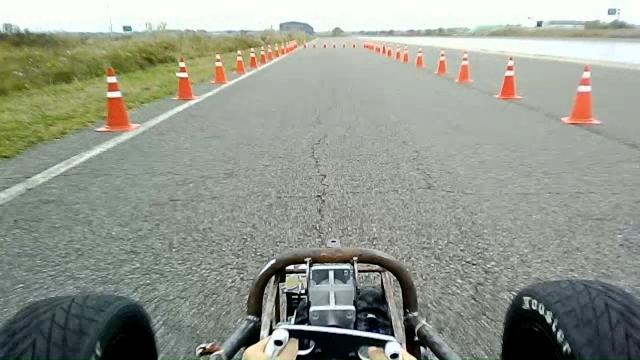red cone: (94, 66, 140, 132), (560, 64, 602, 125), (494, 56, 523, 100), (170, 56, 199, 100), (455, 50, 474, 84), (210, 51, 228, 84), (434, 48, 448, 75), (233, 49, 247, 74), (416, 46, 426, 68), (249, 47, 258, 69), (266, 44, 274, 61), (259, 46, 267, 63), (394, 44, 401, 61), (402, 46, 409, 62)
